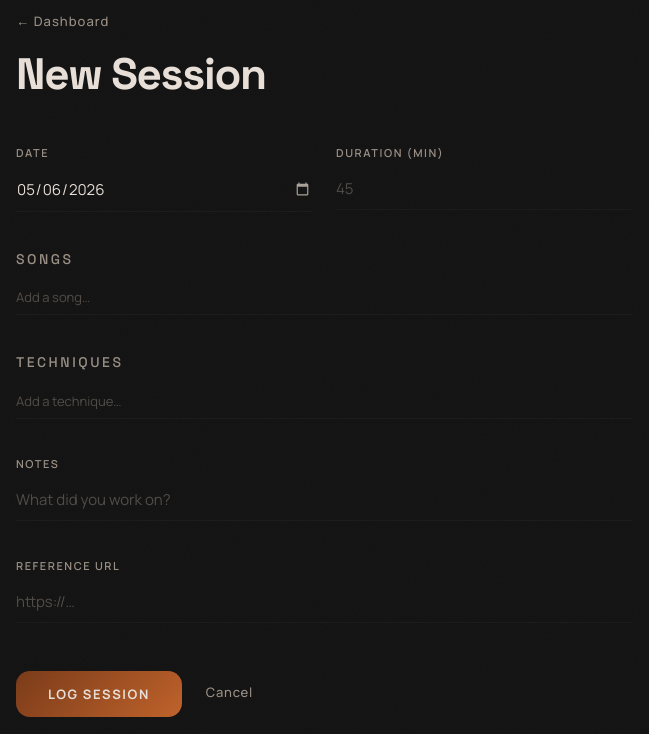
it: create mode rendering › loads and renders the songs library
The image size is (649, 734).
Focus the songs input — library items appear as dropdown options
Click the field with placeholder "Add a song…" at (324, 298), box [16,280,632,315]
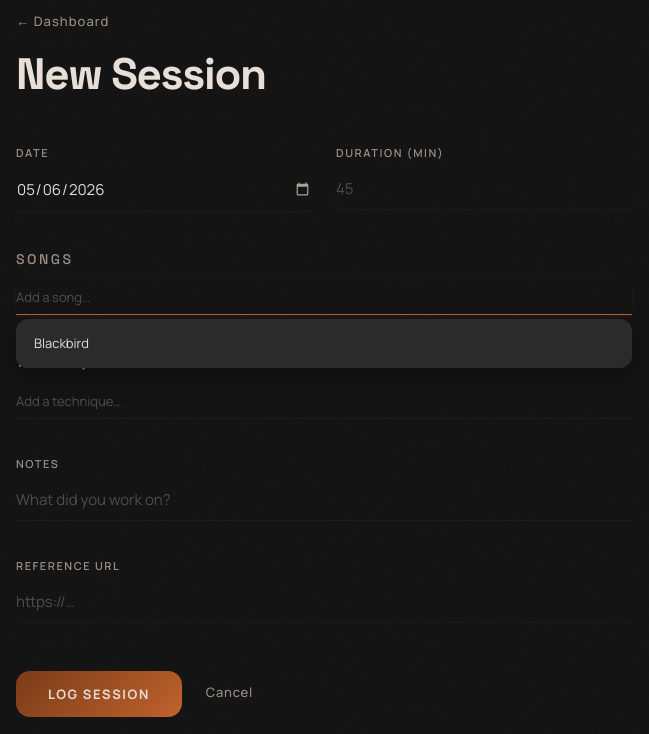
expect the option "Blackbird" is shown: met, box [34,334,89,352]
